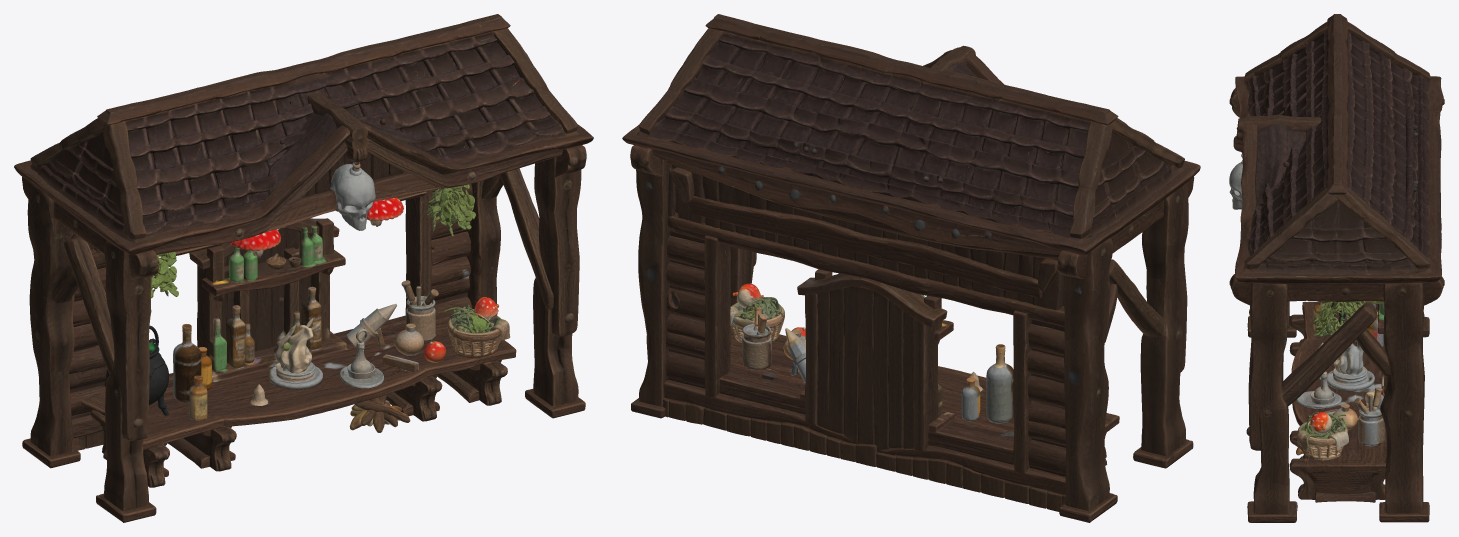
File: PotionShop_A.glb
The picture shows the model from 3 angles, left to right: view 1: azimuth 30°, elevation 25°; view 2: azimuth 150°, elevation 25°; view 3: azimuth 270°, elevation 25°; orthographic projection. The views are drawn at different scales.
Bounding box in the file's own units: 1.9 × 1.43 × 0.8585.
1 material, 1 textured.
